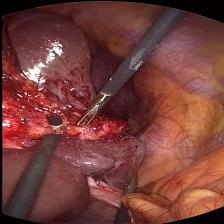Grasper: (72, 88, 110, 128), (121, 170, 141, 195)
Hook: (44, 116, 66, 134)
